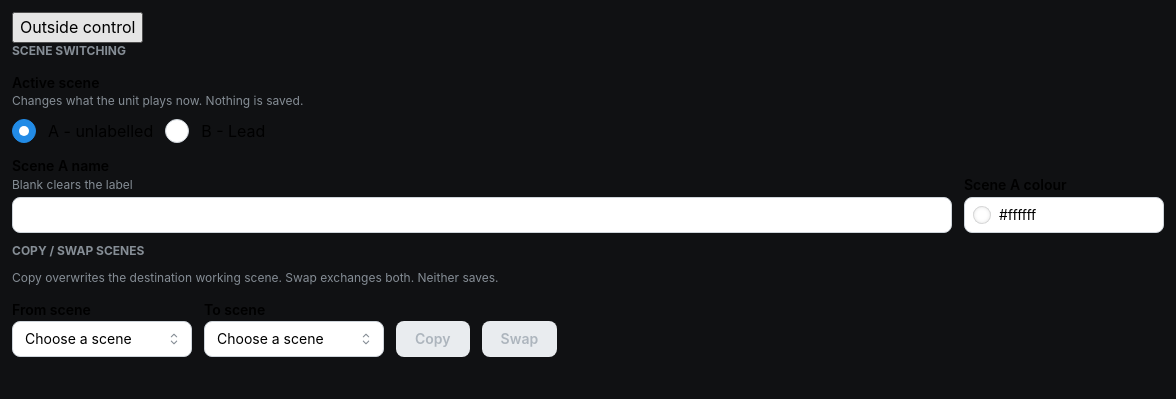
Test: SceneSelector copy/swap scenes › stays disabled, with an explanatory note, when the same scene is chosen twice
Step 1. Select "A - unlabelled" in the dropdown labelled "From scene" → {"x": 102, "y": 339}, box [12,321,192,357]
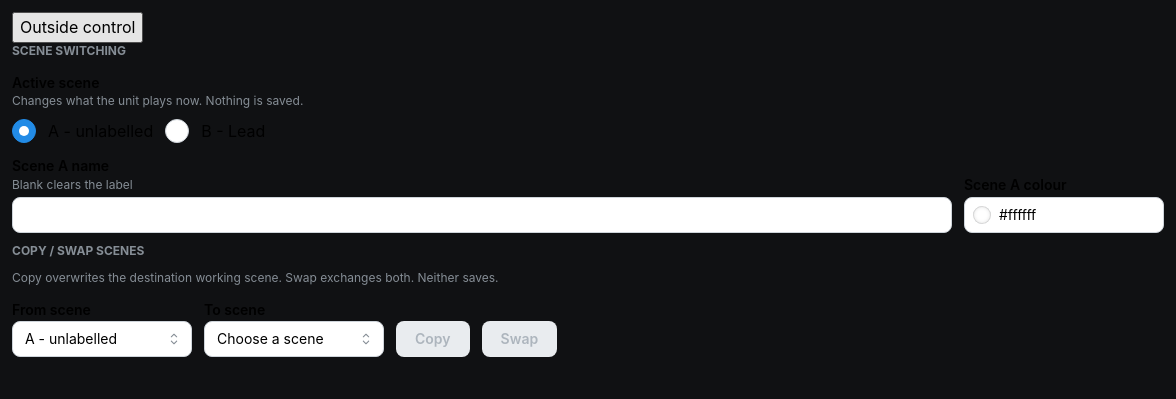
Step 2. Select "A - unlabelled" in the dropdown labelled "To scene" → {"x": 294, "y": 339}, box [204,321,384,357]
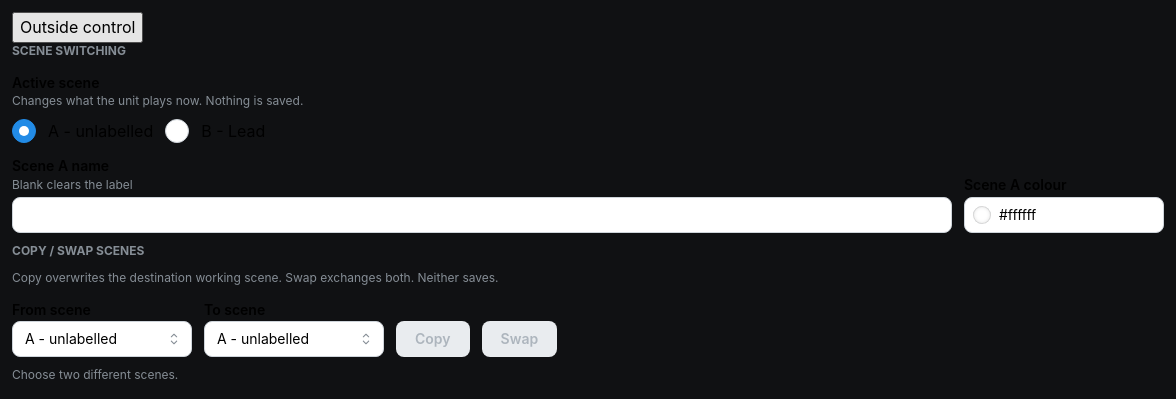
Expected: the button "Copy" is disabled, [396,321,470,357]
Expected: the text "Choose two different scenes." is shown, [12,367,178,382]
